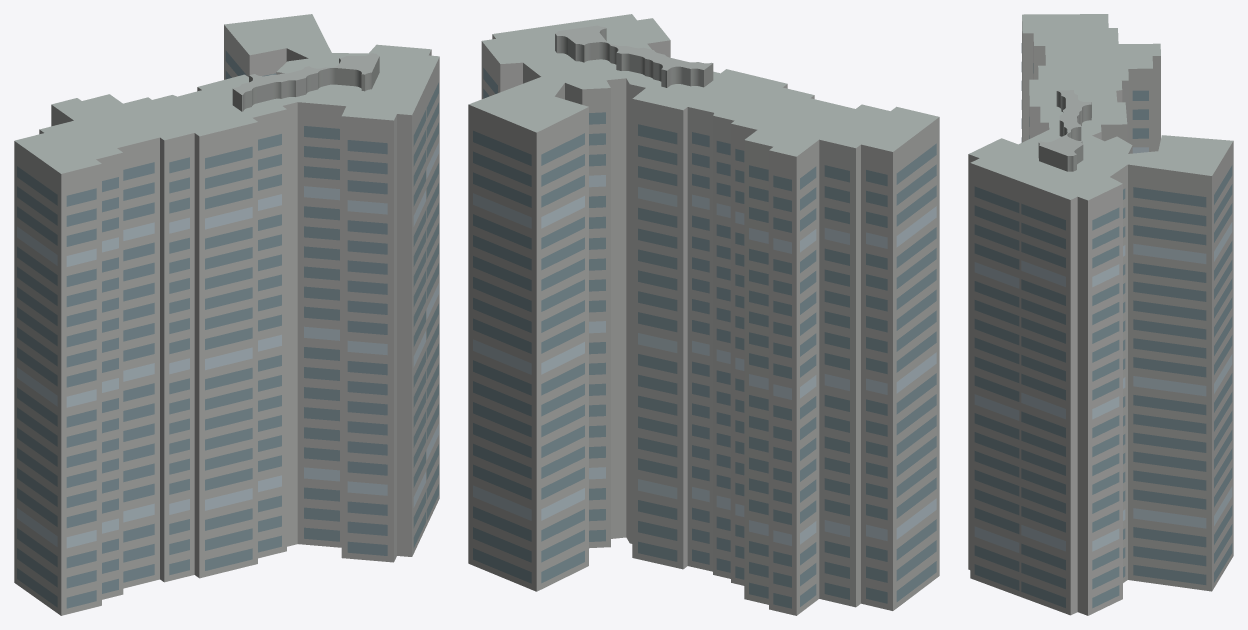
File: fallback-godeok-arteon-323.glb
The picture shows the model from 3 angles, left to right: view 1: azimuth 30°, elevation 25°; view 2: azimuth 150°, elevation 25°; view 3: azimuth 270°, elevation 25°; orthographic projection. The views are drawn at different scales.
Parts seen in each view (by area): view 1: fallback-godeok-arteon-323; view 2: fallback-godeok-arteon-323; view 3: fallback-godeok-arteon-323.
Part boxes in pixels (x1,y1,x2,y2): fallback-godeok-arteon-323: (14,14,439,615); fallback-godeok-arteon-323: (468,14,939,615); fallback-godeok-arteon-323: (968,14,1233,615).
Size of the model in its own units: 61.28 by 66 by 36.77.
